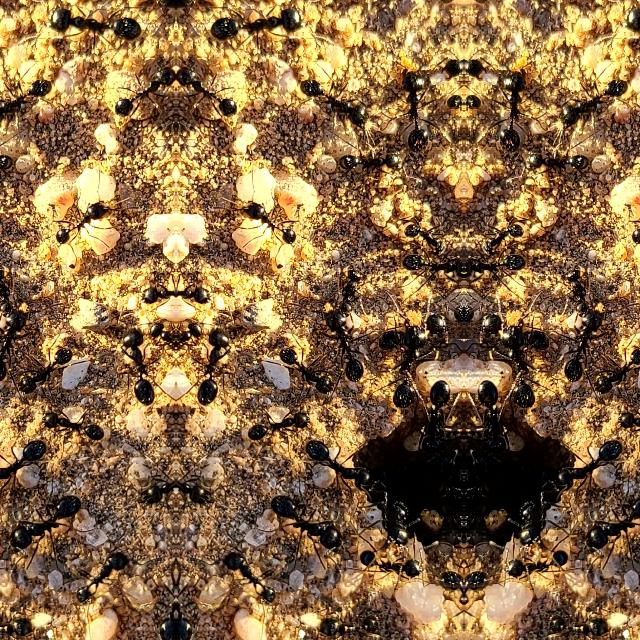Messor: (232, 193, 312, 270), (38, 193, 118, 270), (258, 336, 344, 404), (6, 336, 92, 404), (271, 488, 345, 564), (5, 488, 79, 564), (292, 64, 374, 132), (552, 64, 634, 132), (358, 533, 442, 597), (484, 533, 568, 597), (581, 488, 640, 563), (176, 56, 238, 126), (112, 56, 174, 126), (384, 75, 436, 157), (490, 75, 542, 157), (0, 63, 58, 132), (224, 538, 276, 614), (74, 538, 126, 614), (582, 336, 640, 404), (192, 330, 242, 408), (108, 330, 158, 408), (210, 12, 314, 48), (36, 12, 140, 48), (412, 375, 456, 459), (470, 375, 514, 459), (322, 307, 374, 378), (552, 307, 604, 378), (382, 313, 454, 362), (472, 313, 544, 362), (381, 499, 429, 566), (497, 499, 545, 566), (250, 407, 328, 448), (22, 407, 100, 448), (388, 346, 430, 422), (496, 346, 538, 422), (318, 138, 388, 182), (314, 600, 391, 640), (538, 138, 608, 182), (536, 600, 612, 640), (306, 432, 360, 482), (566, 432, 620, 482), (392, 58, 462, 94), (464, 58, 534, 94), (175, 562, 207, 640), (143, 562, 175, 640), (174, 471, 220, 519), (130, 471, 176, 519), (328, 276, 386, 314), (540, 276, 598, 314), (402, 216, 454, 258), (472, 216, 524, 258), (0, 432, 44, 481), (405, 246, 463, 282), (463, 246, 521, 282), (614, 193, 640, 270), (0, 307, 28, 378), (174, 272, 220, 310), (130, 272, 176, 310), (598, 406, 640, 447), (0, 600, 36, 640), (175, 314, 207, 358), (143, 314, 175, 358), (0, 137, 31, 182), (440, 570, 462, 618), (464, 570, 486, 618), (611, 12, 640, 47), (0, 275, 21, 314)
